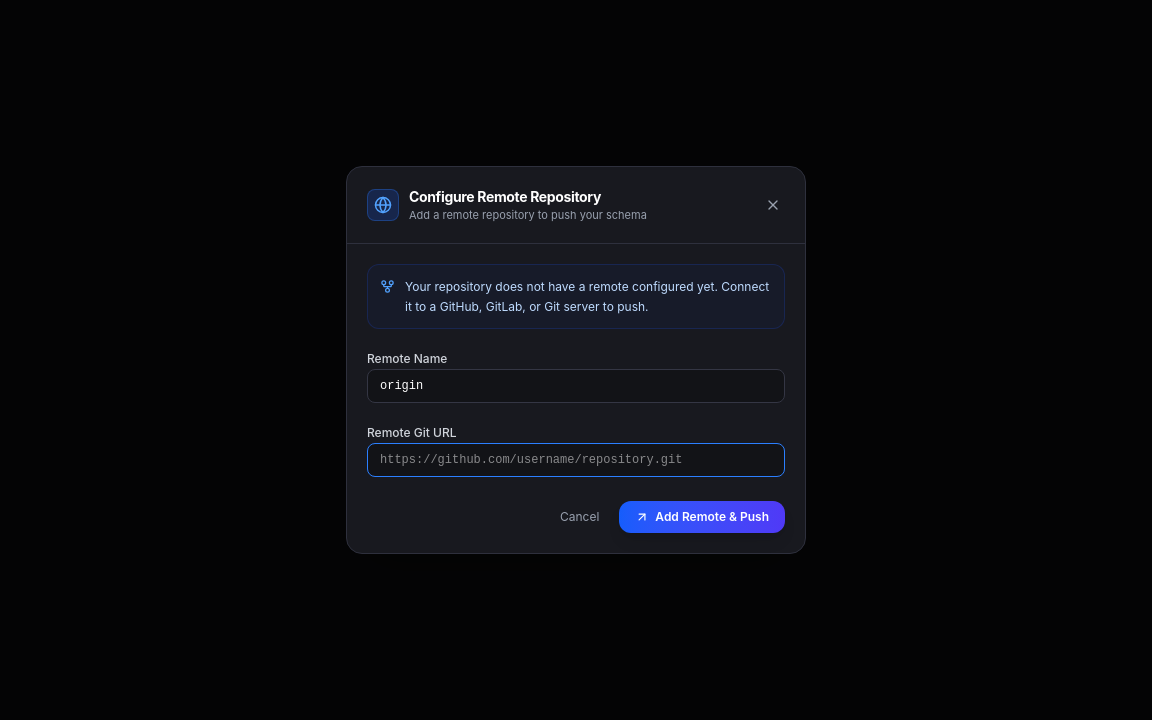
Test: RemoteRepoModal Component › validates empty URL
Click the button "Add Remote & Push": (702, 517) [619,501,785,533]
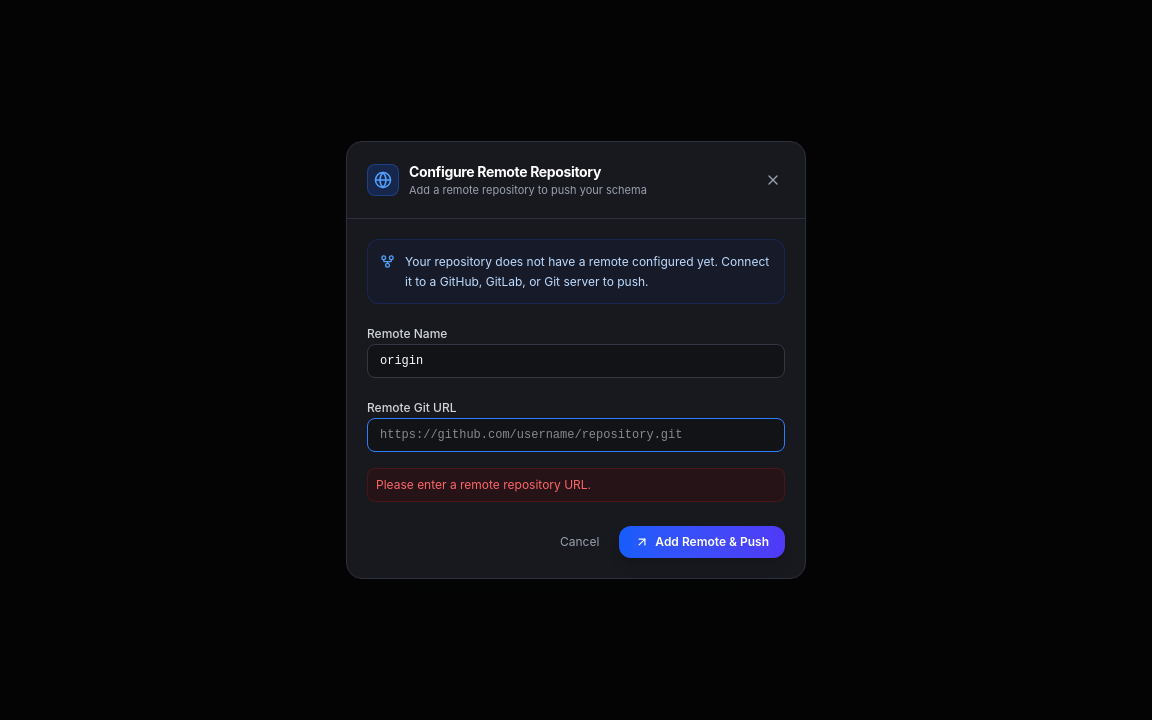
Check: the text "Please enter a remote repository URL." is shown, box [367,468,785,502]
